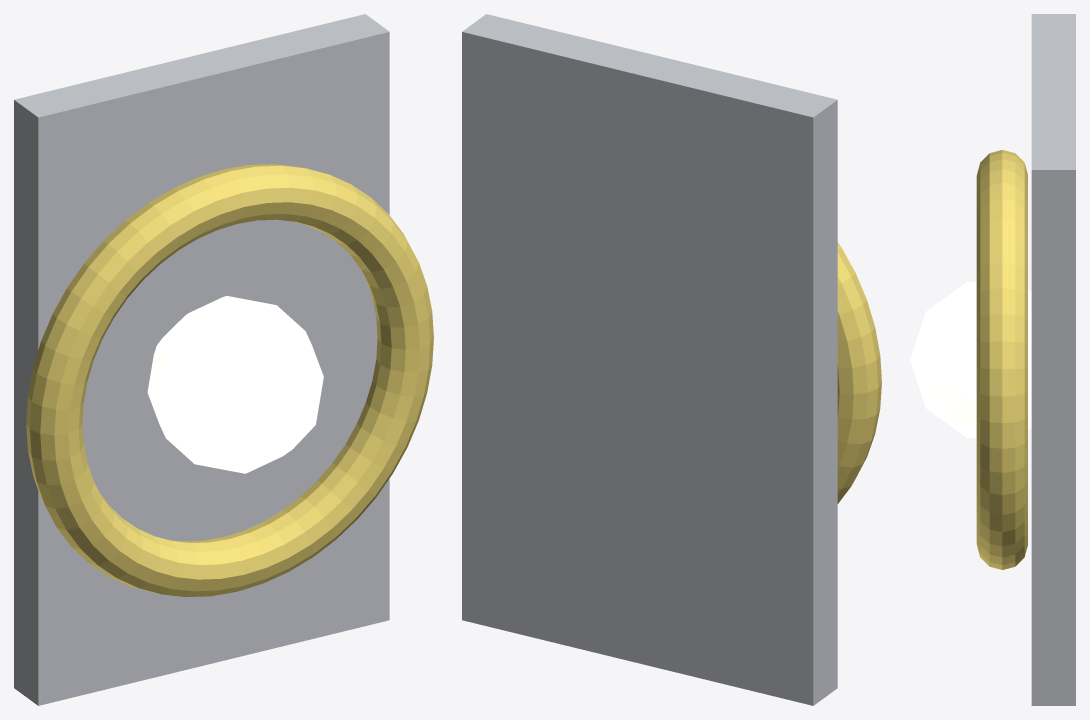
The model's file is shield_invincible_sun.glb.
3 renders of one model, left to right at view 1: azimuth 30°, elevation 25°; view 2: azimuth 150°, elevation 25°; view 3: azimuth 270°, elevation 25°, orthographic. The views are drawn at different scales.
Parts seen in each view (by area): view 1: Cube, Torus, Icosphere; view 2: Cube, Torus; view 3: Cube, Torus, Icosphere.
Part boxes in pixels (x1,y1,x2,y2): Cube: [14, 14, 389, 705]; Torus: [26, 164, 433, 597]; Icosphere: [147, 296, 323, 473]; Cube: [462, 14, 837, 705]; Torus: [837, 242, 881, 503]; Cube: [1031, 14, 1075, 705]; Torus: [976, 150, 1027, 569]; Icosphere: [910, 282, 1031, 437].
Size of the model in its own units: 0.41 by 0.576 by 0.1616.
